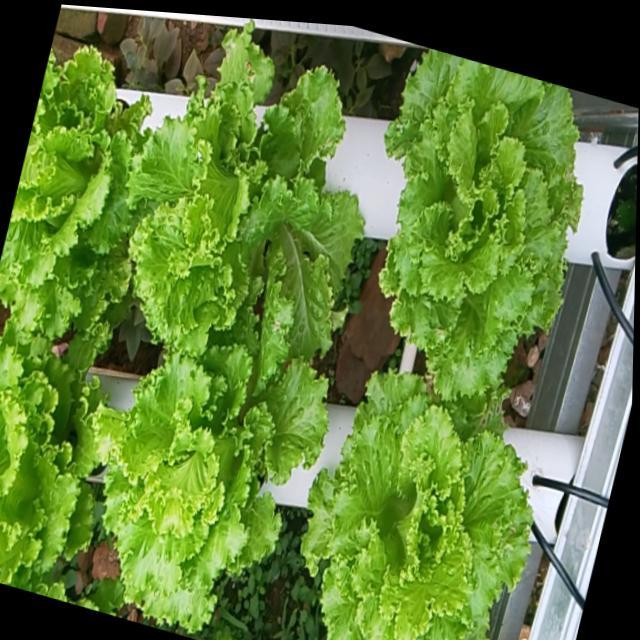Mature: (128, 28, 394, 357), (379, 50, 582, 407), (93, 344, 326, 636), (301, 371, 532, 640), (0, 47, 148, 340), (0, 311, 99, 592)
